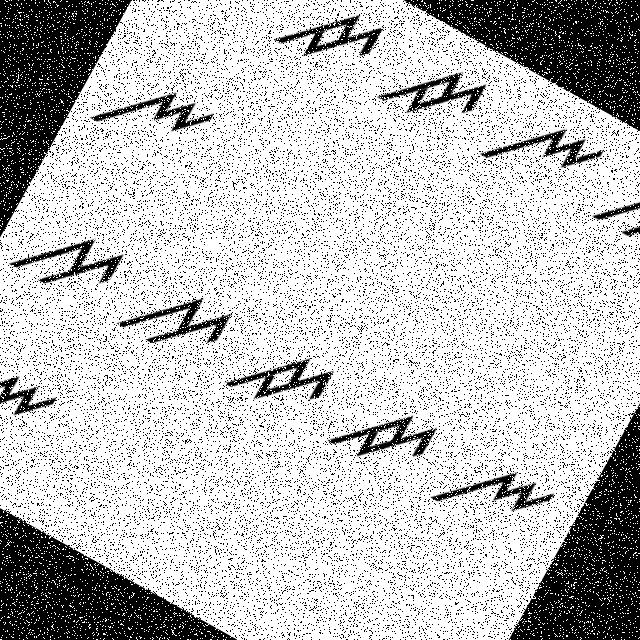ja: (213, 310, 360, 452), (322, 372, 448, 494), (369, 36, 494, 150), (262, 0, 396, 101)
nya: (424, 422, 570, 566), (84, 46, 224, 178), (474, 90, 612, 217), (0, 319, 81, 473)
sa: (106, 256, 248, 390), (0, 192, 139, 325), (591, 157, 639, 271), (157, 0, 289, 36)
